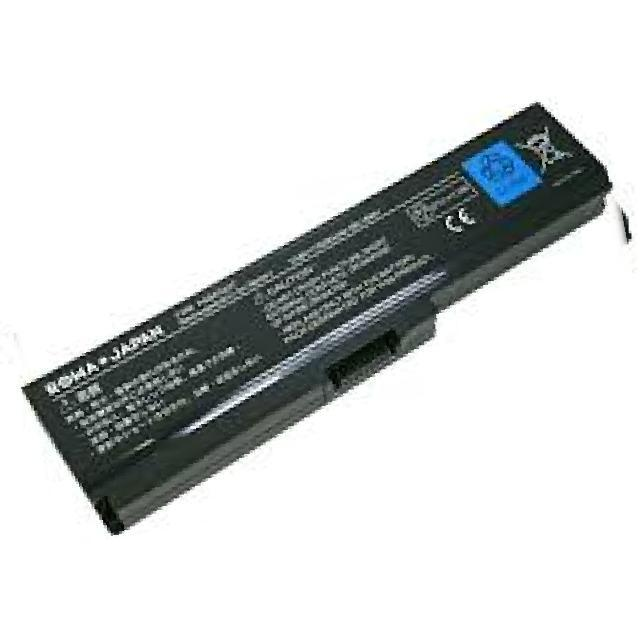Battery: (19, 89, 633, 554)
